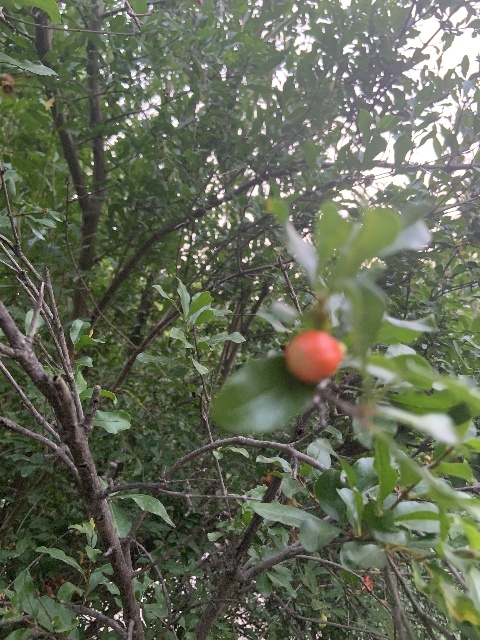bud: (283, 330, 343, 384)
early-fruit: (0, 72, 20, 101)
